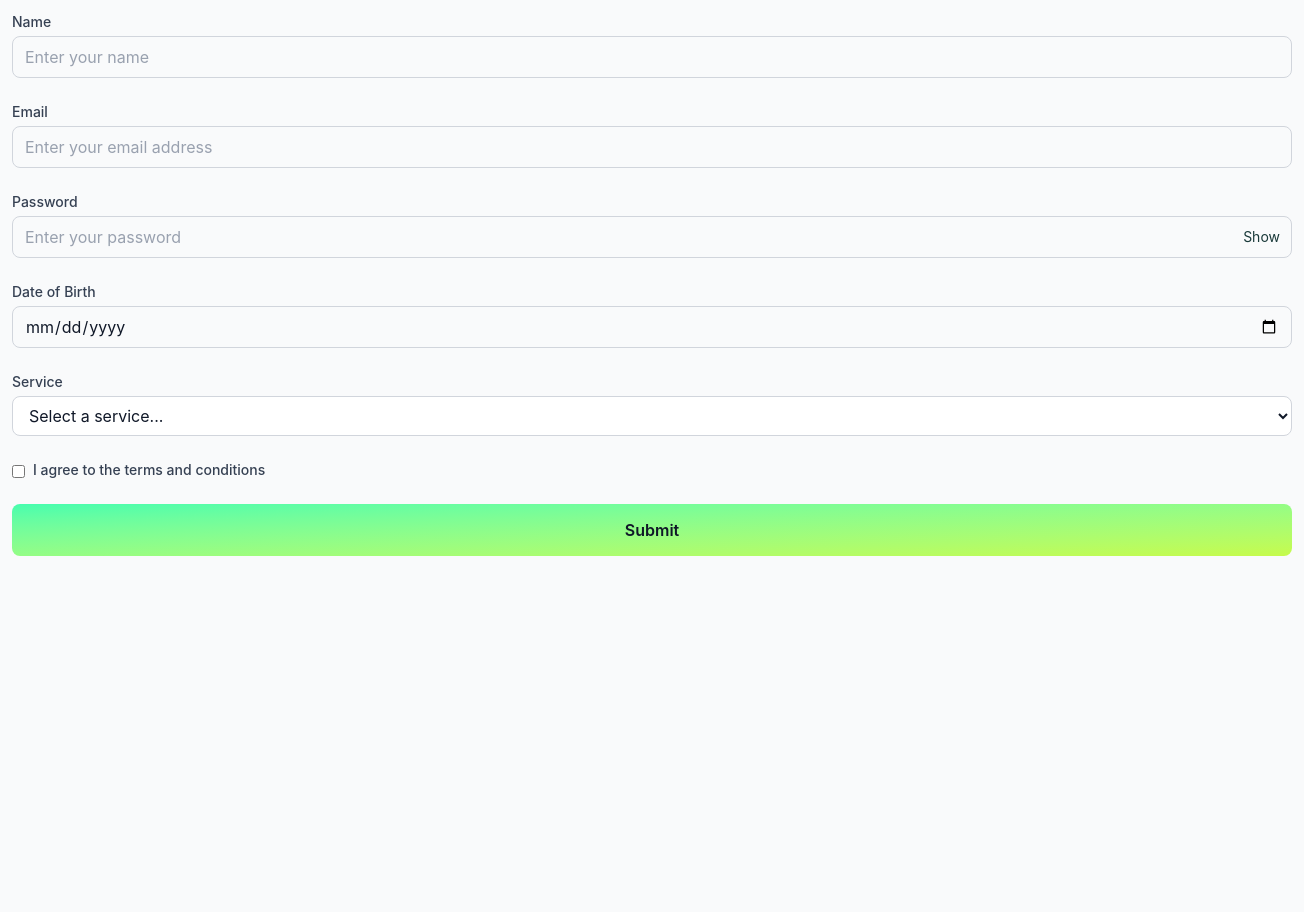
Test: ServiceForm › shows an error when Other is selected but the specify field is empty
Select "Other" in the dropdown labelled "Service" at (652, 416), box [12,396,1292,436]
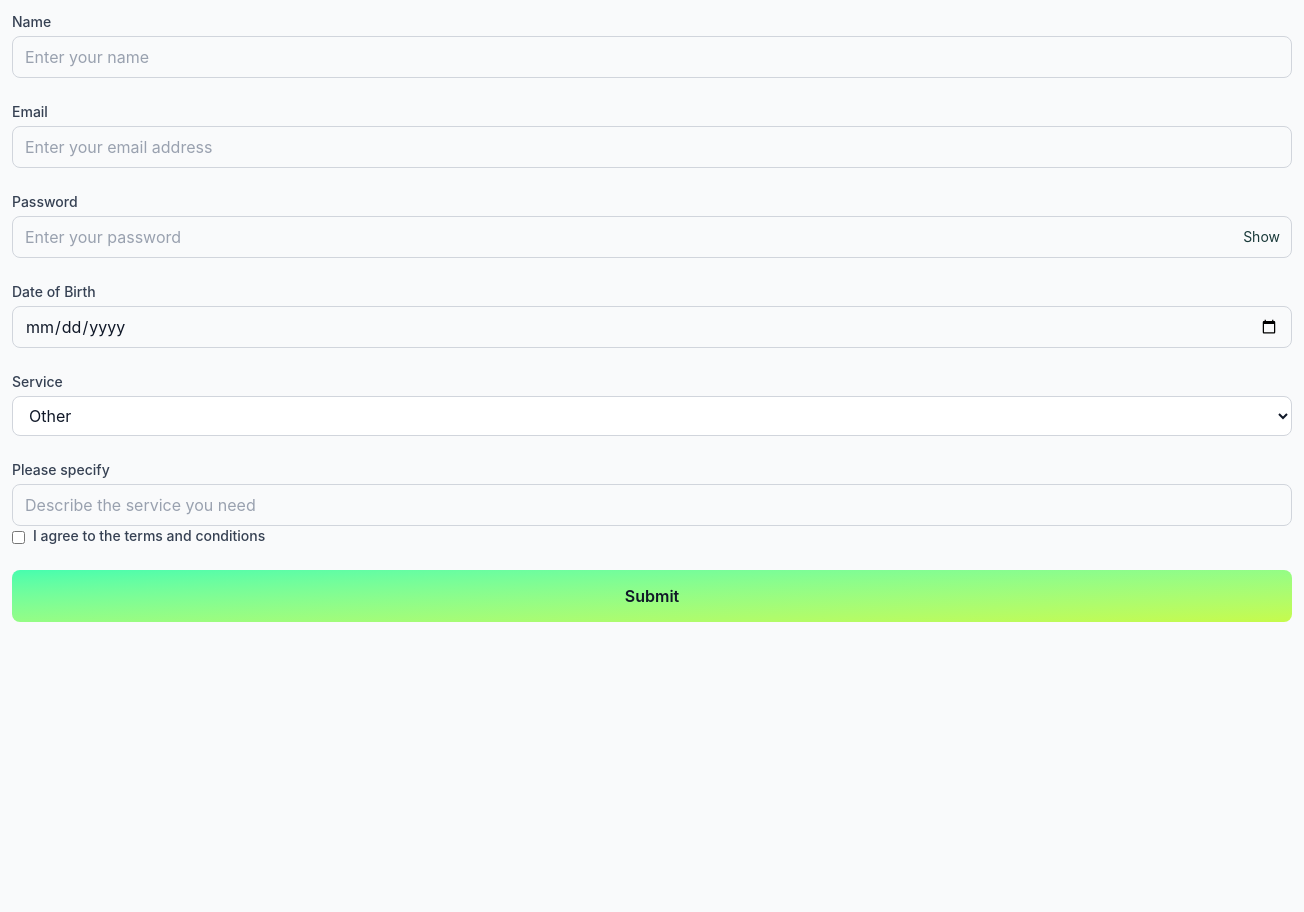
Submit the form
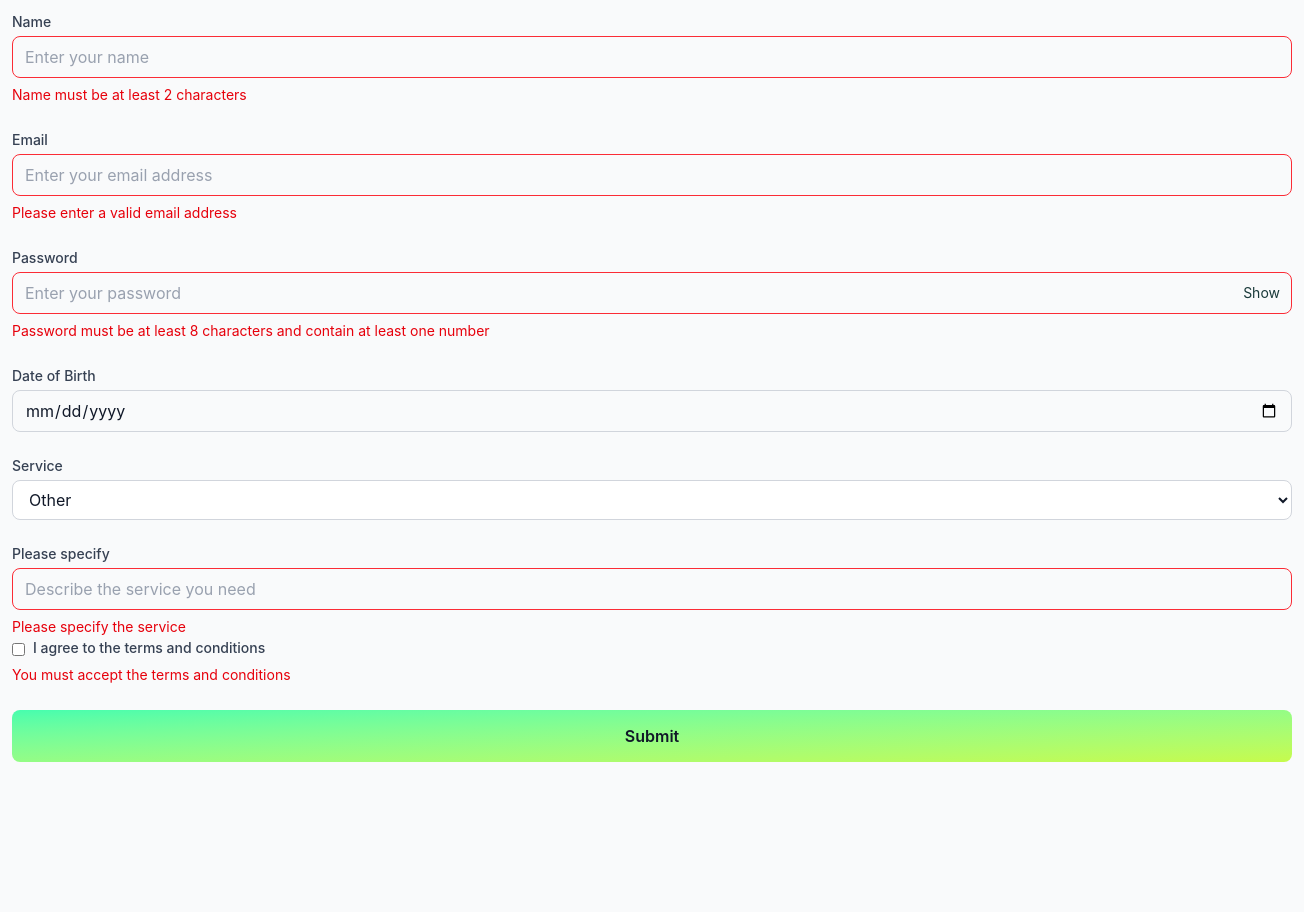
Check: the message with test id "error" reads "Please specify the service", box [12,618,186,635]
